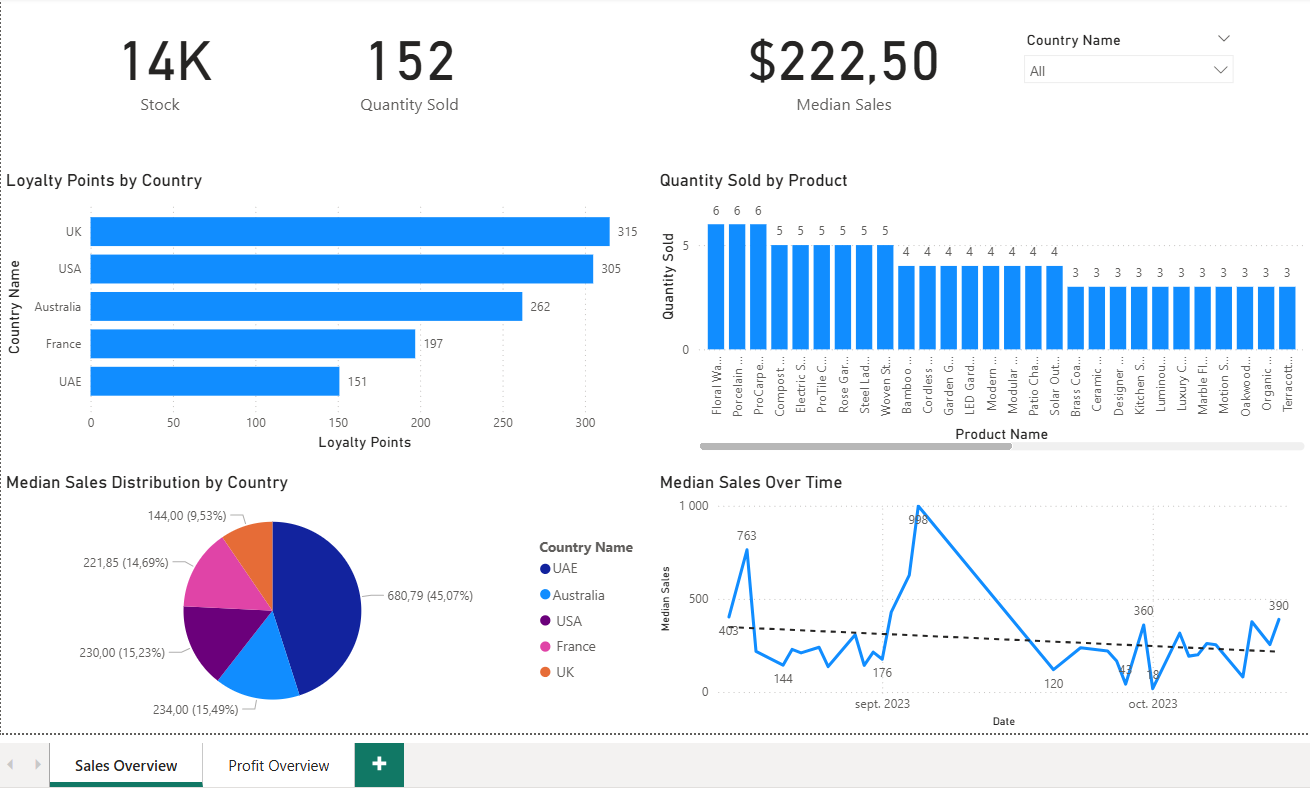

Layout of this report page (visuals, bound fields, positions):
{"tool":"powerbi","page":{"name":"Sales Overview","canvas":[1280,720],"ordinal":0},"visuals":[{"type":"clusteredBarChart","title":"Loyalty Points by Country","fields":{"Category":["Sales in USD.Country Name"],"Y":["Sum(Sales in USD. Loyalty Points)"]},"box":[0,168.8,639.5,279.9],"z":0},{"type":"clusteredColumnChart","title":"Quantity Sold by Product","fields":{"Category":["Sales in USD.Product Name"],"Y":["Sum(Sales in USD.Quantity Purchased)"]},"box":[639.5,168.8,640.8,279.9],"z":1000},{"type":"pieChart","title":"Median Sales Distribution by Country","fields":{"Category":["Sales in USD.Country Name"],"Y":["Sales in USD.Median Sales"]},"box":[0,465.2,639.5,252.5],"z":2000},{"type":"lineChart","title":"Median Sales Over Time","fields":{"Y":["Sales in USD.Median Sales"],"Category":["Calendar.Date"]},"box":[639.5,465.2,640.8,255.2],"z":3000},{"type":"card","title":"Stock","fields":{"Values":["Sum(Sales in USD. Stock  )"]},"box":[52.6,9.8,215.2,112.5],"z":4000},{"type":"card","title":"Quatity Purchased","fields":{"Values":["Sum(Sales in USD.Quantity Purchased)"]},"box":[292.3,9.8,215.2,112.5],"z":5000},{"type":"card","title":"Median Sales","fields":{"Values":["Sales in USD.Median Sales"]},"box":[705.6,9.8,238.5,112.5],"z":6000},{"type":"slicer","fields":{"Values":["Sales in USD.Country Name"]},"box":[990.5,28.1,225,75.8],"z":7000}]}

Visuals, with their boxes on the page's 1280x720 design canvas (x1, y1, x2, y2). These are canvas units, not pixel positions in the 1310x788 screenshot, which may show the page scaled, cropped or inside an application window:
"Loyalty Points by Country" clusteredBarChart: [0, 169, 640, 449]
"Quantity Sold by Product" clusteredColumnChart: [640, 169, 1280, 449]
"Median Sales Distribution by Country" pieChart: [0, 465, 640, 718]
"Median Sales Over Time" lineChart: [640, 465, 1280, 720]
"Stock" card: [53, 10, 268, 122]
"Quatity Purchased" card: [292, 10, 508, 122]
"Median Sales" card: [706, 10, 944, 122]
slicer - Sales in USD.Country Name: [990, 28, 1216, 104]
